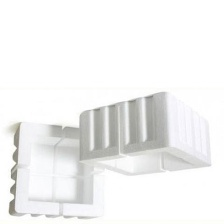foam_box: (73, 87, 216, 178), (5, 119, 108, 221)
